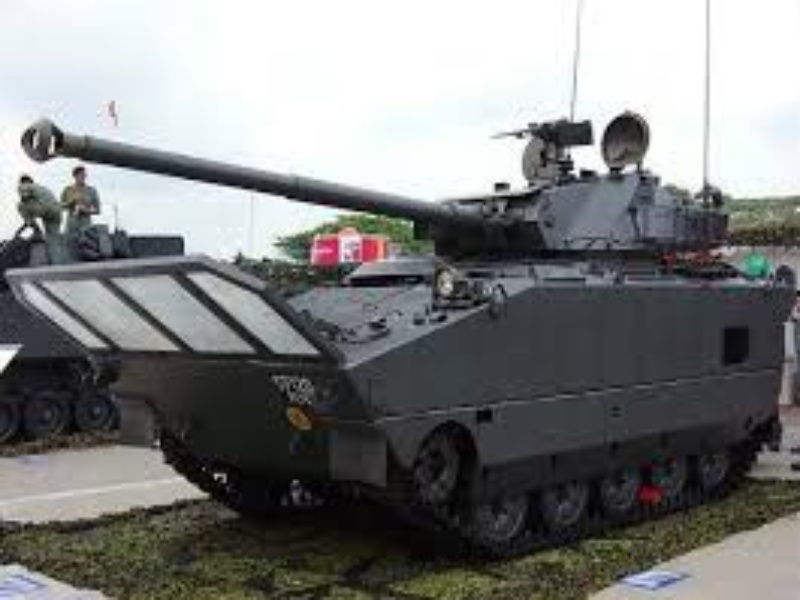tank: (4, 108, 800, 563)
